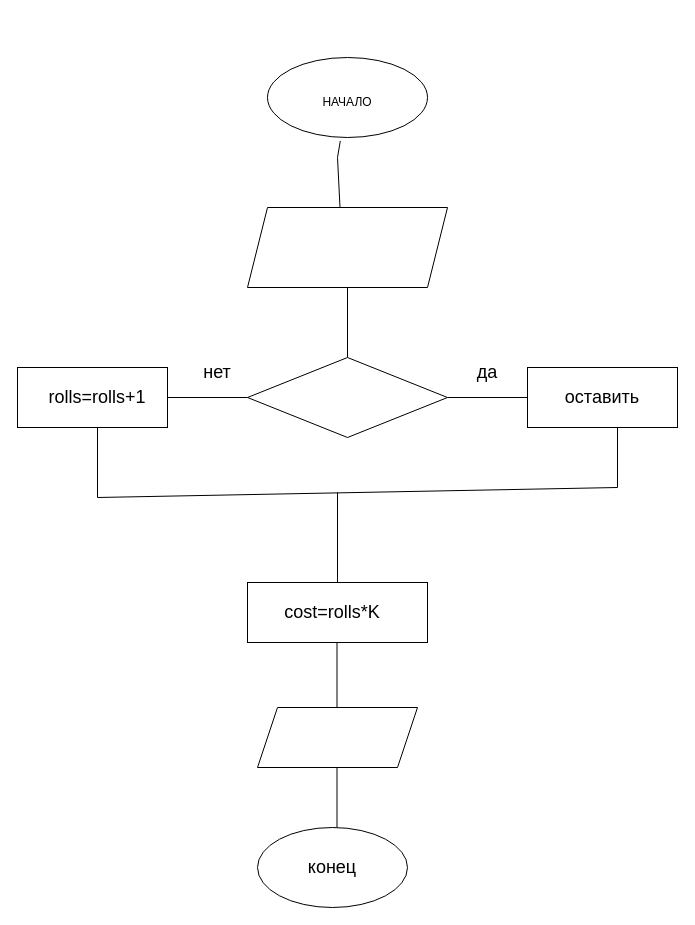
The diagram is 695 pixels wide and 925 high, and some of its shapes have lost their labels. Each missing label, with the centre of its shape:
"rolls целое?" belongs at pixel 347 397.
"ввести переменные A, B, K" belongs at pixel 347 247.
"вывести cost" belongs at pixel 337 737.
